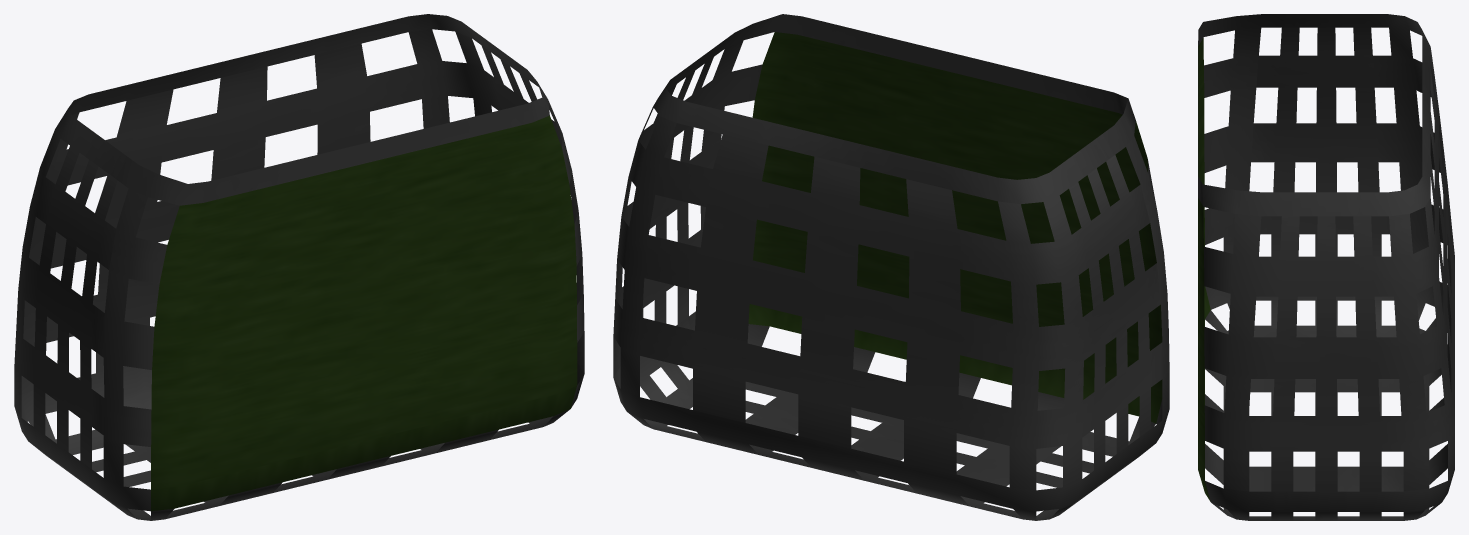
Rendered from CargoNet.FBX.
3 views of the same model, side by side, from view 1: azimuth 30°, elevation 25°; view 2: azimuth 150°, elevation 25°; view 3: azimuth 270°, elevation 25° (orthographic). The views are drawn at different scales.
Parts seen in each view (by area): view 1: ChamferBox001, ChamferBox002; view 2: ChamferBox001, ChamferBox002; view 3: ChamferBox001, ChamferBox002.
Part boxes in pixels (<box>): ChamferBox001: <box>14,14,584,520</box>; ChamferBox002: <box>21,14,584,520</box>; ChamferBox001: <box>613,14,1169,520</box>; ChamferBox002: <box>613,14,1161,519</box>; ChamferBox001: <box>1198,14,1454,520</box>; ChamferBox002: <box>1198,14,1451,520</box>.
Bounding box in the file's own units: 0.5294 × 0.371 × 0.2647.
1 material, 1 textured.
